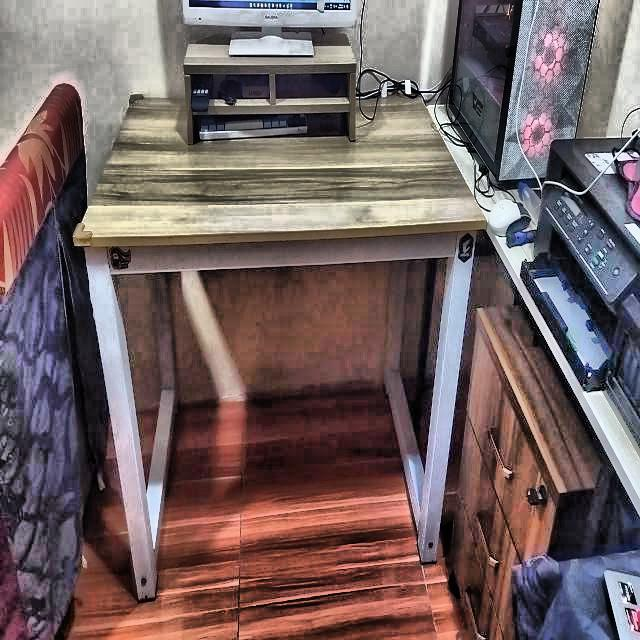mesa: (70, 79, 488, 598)
